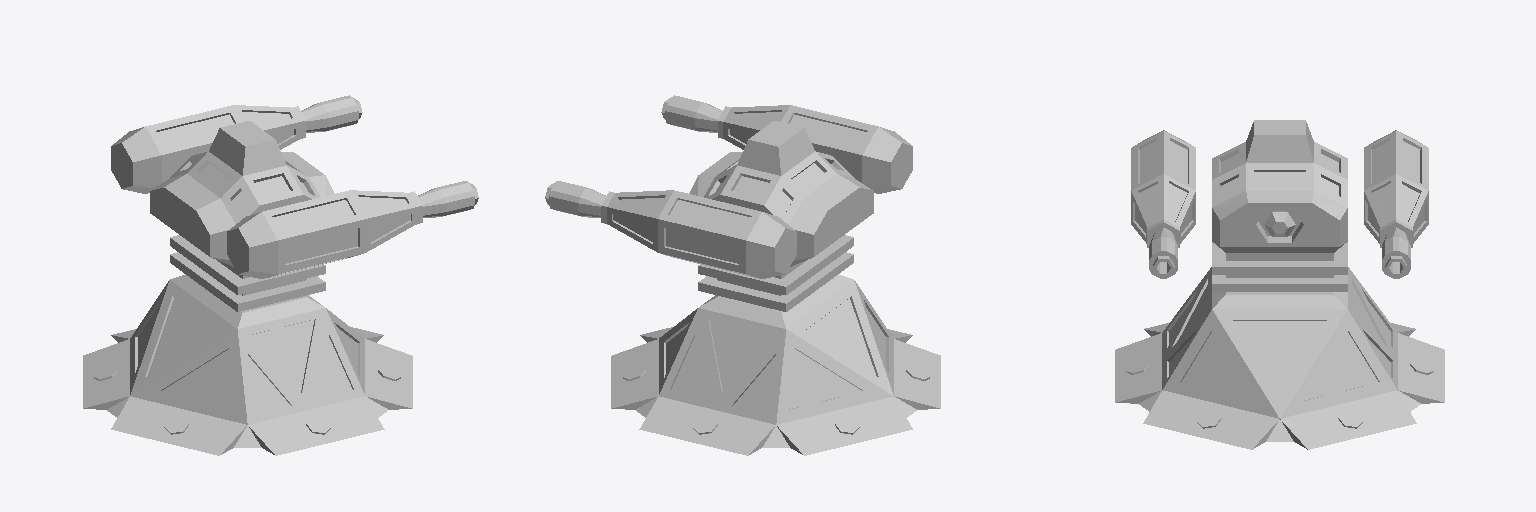
Rendered from mega turret.obj.
The picture shows the model from 3 angles: view 1: azimuth 30°, elevation 25°; view 2: azimuth 150°, elevation 25°; view 3: azimuth 270°, elevation 25°; orthographic projection.
Parts seen in each view (by area): view 1: Mesh1; view 2: Mesh1; view 3: Mesh1.
Boxes of the visible parts, <box> form: Mesh1: <box>83,95,478,455</box>; Mesh1: <box>545,95,940,455</box>; Mesh1: <box>1115,120,1444,449</box>.
Size of the model in its own units: 2709 by 2020 by 2433.